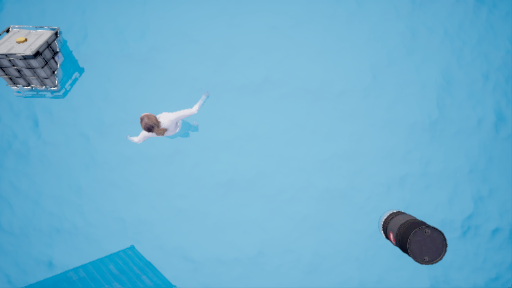person: (118, 93, 213, 152)
